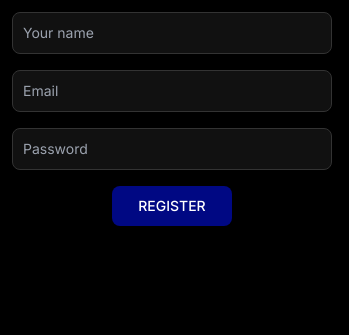
Test: Actions in <SignInForm /> › Submit form when Empty
This screenshot has width=349, height=335.
Click the button "REGISTER": (172,206) [112,186,232,226]
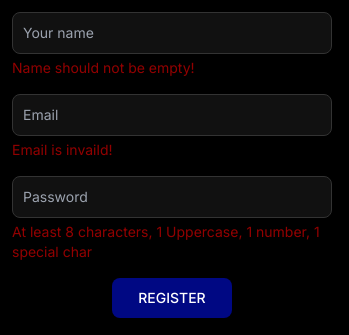
Result: the text "Name should not be empty!" is shown at [12,59,195,76]
Result: the text "Email is invaild!" is shown at [12,141,112,158]
Result: the text "At least 8 characters, 1 Uppercase, 1 number, 1 special char" is shown at [12,218,332,262]
